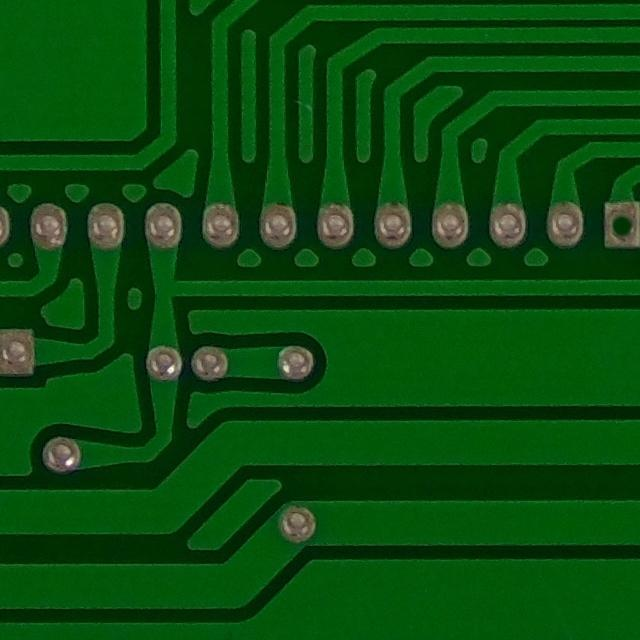missing_hole: (596, 195, 640, 258)
